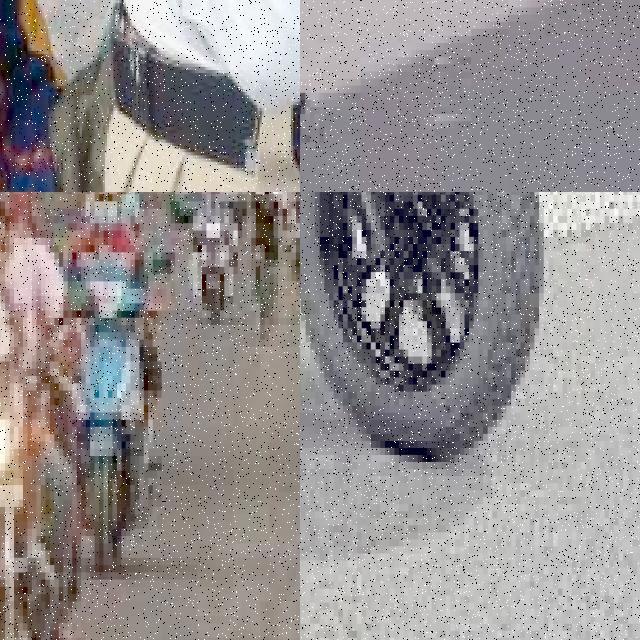bike: (300, 192, 567, 483), (0, 0, 205, 192), (76, 245, 162, 572), (0, 347, 58, 640), (193, 209, 247, 332)
